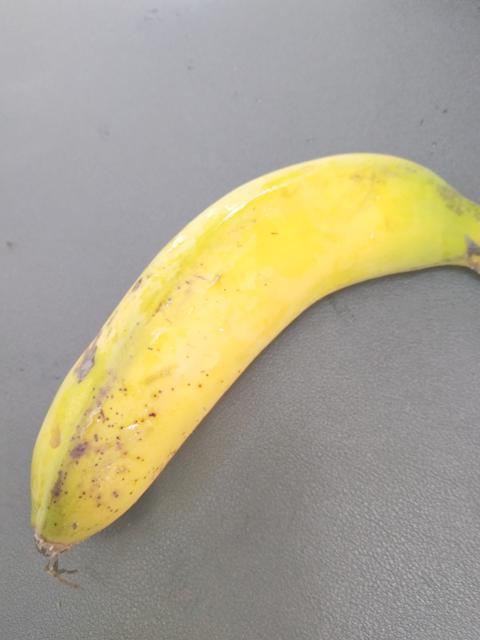ripe: (0, 150, 442, 585)
